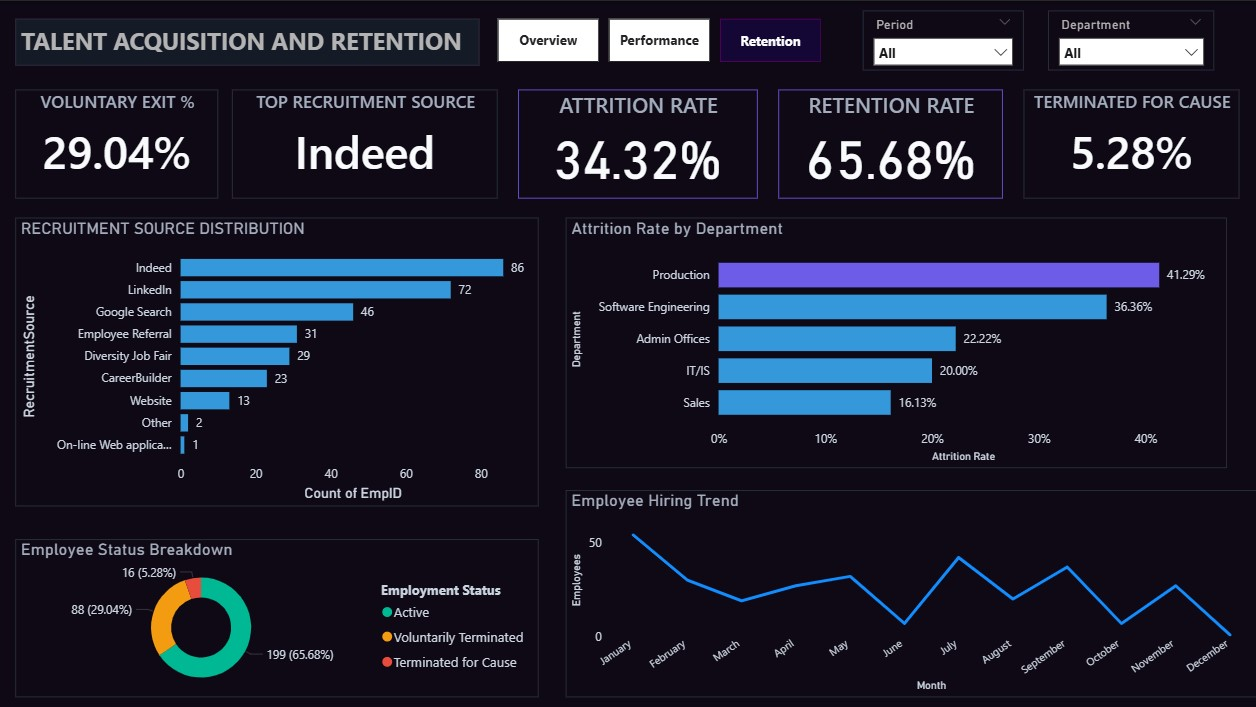

What the dashboard file says about the page in this screenshot:
{"tool":"powerbi","page":{"name":"Retention","canvas":[1280,720],"ordinal":2},"visuals":[{"type":"card","title":"VOLUNTARY EXIT %","fields":{"Values":["Worksheet.Voluntary Exit %"]},"box":[16.6,90.1,206.5,110.8],"z":0},{"type":"card","title":"TOP RECRUITMENT SOURCE","fields":{"Values":["Worksheet.Top Recruitment Source"]},"box":[237.6,89.6,270.4,110.6],"z":1000},{"type":"card","title":"ATTRITION RATE","fields":{"Values":["Worksheet.Attrition Rate"]},"box":[527.4,89.6,243.5,110.6],"z":2000},{"type":"lineChart","title":"Employee Hiring Trend","fields":{"Category":["Worksheet.DateofHire.Variation.Date Hierarchy.Month"],"Y":["Count(Worksheet.EmpID)"]},"box":[576.7,497.5,703.7,210.7],"z":3000},{"type":"donutChart","title":"Employee Status Breakdown","fields":{"Category":["Worksheet.EmploymentStatus"],"Y":["CountNonNull(Worksheet.EmpID)"]},"box":[16.6,547.3,532.1,160.7],"z":4000},{"type":"textbox","box":[16.4,17.9,472.1,47.8],"z":5000},{"type":"slicer","fields":{"Values":["Worksheet.DateofHire.Variation.Date Hierarchy.Year"]},"box":[878.5,9.7,163.5,61],"z":6000},{"type":"slicer","fields":{"Values":["Worksheet.Department"]},"box":[1066.9,9.7,169,61],"z":7000},{"type":"card","title":"RETENTION RATE","fields":{"Values":["Worksheet.Retention Rate"]},"box":[791.9,89.6,228.6,110.6],"z":9000},{"type":"card","title":"TERMINATED FOR CAUSE","fields":{"Values":["Worksheet.Terminated for Cause %"]},"box":[1041.4,89.6,219.6,110.6],"z":10000},{"type":"barChart","title":"RECRUITMENT SOURCE DISTRIBUTION","fields":{"Y":["CountNonNull(Worksheet.EmpID)"],"Category":["Worksheet.RecruitmentSource"]},"box":[16.6,220.3,532.1,293.7],"z":11000},{"type":"barChart","fields":{"Category":["Worksheet.Department"],"Y":["Worksheet.Attrition Rate"]},"box":[576.4,220.3,672,254.9],"z":12000},{"type":"pageNavigator","box":[507.1,18,329.8,44.3],"z":12001}]}

Visuals, with their boxes in screenshot pixels (x1, y1, x2, y2), scaled from the page's 1280x720 canvas onto the 1256x707 screenshot:
"VOLUNTARY EXIT %" card: x1=16, y1=88, x2=219, y2=197
"TOP RECRUITMENT SOURCE" card: x1=233, y1=88, x2=498, y2=197
"ATTRITION RATE" card: x1=518, y1=88, x2=756, y2=197
"Employee Hiring Trend" lineChart: x1=566, y1=489, x2=1255, y2=695
"Employee Status Breakdown" donutChart: x1=16, y1=537, x2=538, y2=695
textbox: x1=16, y1=18, x2=479, y2=65
slicer - Worksheet.DateofHire.Variation.Date Hierarchy.Year: x1=862, y1=10, x2=1022, y2=69
slicer - Worksheet.Department: x1=1047, y1=10, x2=1213, y2=69
"RETENTION RATE" card: x1=777, y1=88, x2=1001, y2=197
"TERMINATED FOR CAUSE" card: x1=1022, y1=88, x2=1237, y2=197
"RECRUITMENT SOURCE DISTRIBUTION" barChart: x1=16, y1=216, x2=538, y2=505
barChart - Worksheet.Department x Worksheet.Attrition Rate: x1=566, y1=216, x2=1225, y2=467
pageNavigator: x1=498, y1=18, x2=821, y2=61
